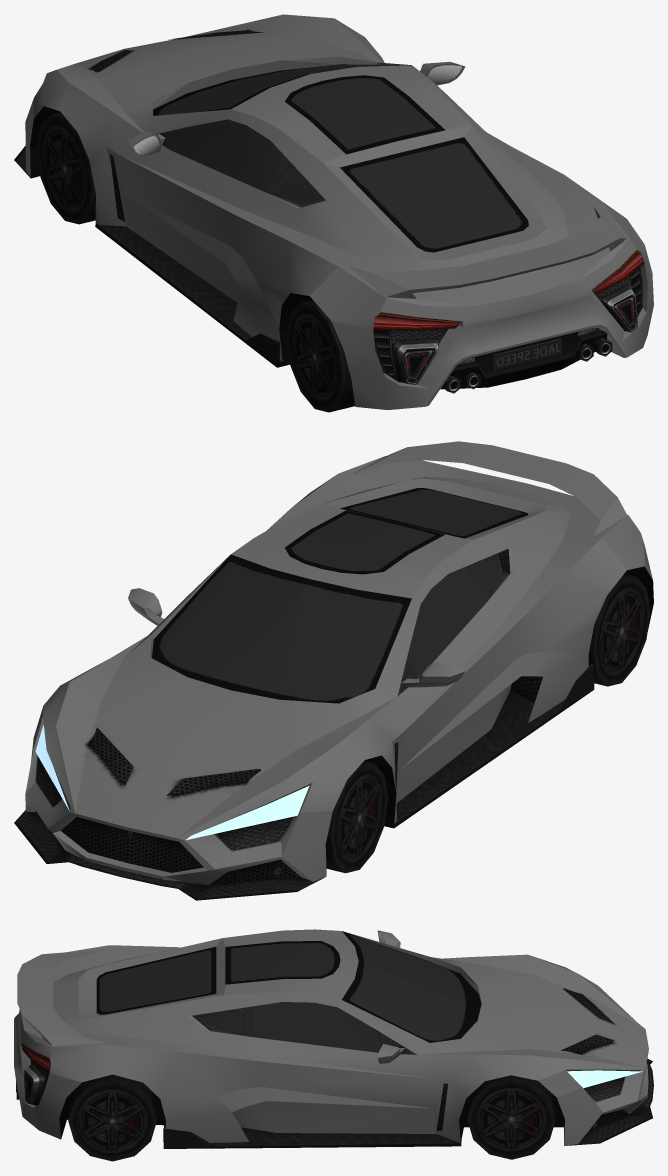
The model's file is car_74.glb.
3 views of the same model, one above another, from view 1: azimuth 30°, elevation 25°; view 2: azimuth 150°, elevation 25°; view 3: azimuth 270°, elevation 25° (orthographic). The views are drawn at different scales.
Parts seen in each view (by area): view 1: car_74; view 2: car_74; view 3: car_74.
Part boxes in pixels (x1,y1,x2,y2): car_74: (14, 14, 653, 412); car_74: (14, 441, 653, 900); car_74: (14, 929, 653, 1161).
Bounding box in the file's own units: 23.67 × 12.54 × 50.33.
10 materials, 10 textured.
